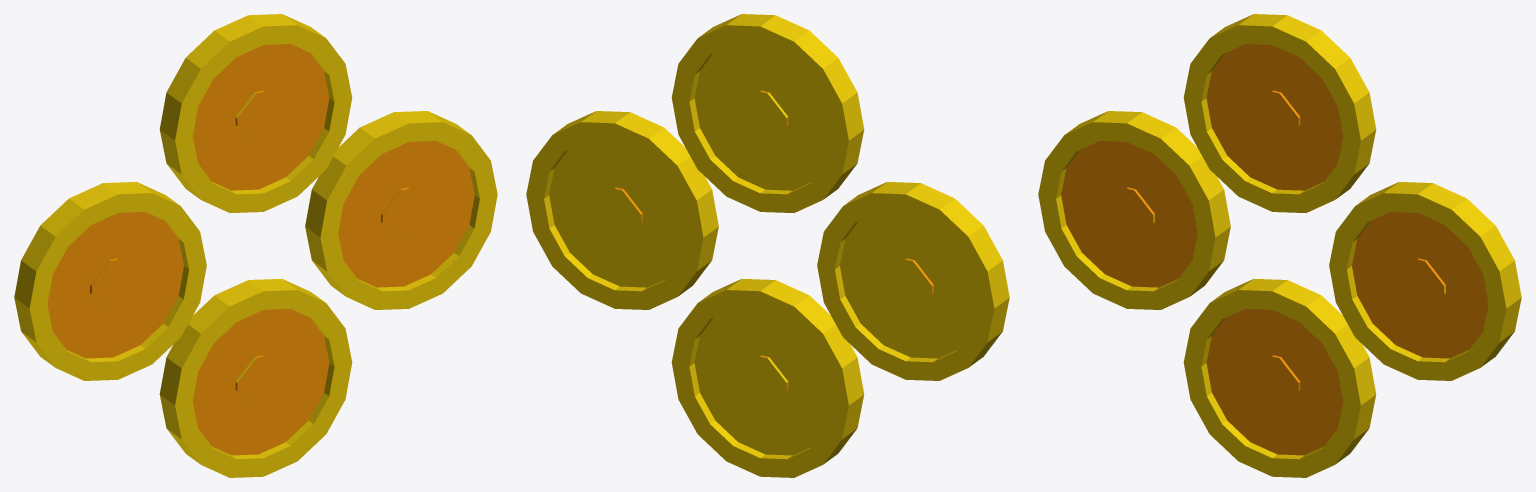
3 views of the same model, side by side, from view 1: azimuth 30°, elevation 25°; view 2: azimuth 150°, elevation 25°; view 3: azimuth 330°, elevation 25° (orthographic).
Parts seen in each view (by area): view 1: Coin_1, Coin_2, Coin_3, Coin_4; view 2: Coin_1, Coin_2, Coin_3, Coin_4; view 3: Coin_3, Coin_2, Coin_1, Coin_4.
Boxes of the visible parts, bbox=[...] form: Coin_1: bbox=[14, 182, 206, 380]; Coin_2: bbox=[159, 14, 352, 212]; Coin_3: bbox=[305, 111, 497, 309]; Coin_4: bbox=[159, 279, 352, 477]; Coin_1: bbox=[817, 182, 1009, 380]; Coin_2: bbox=[671, 14, 864, 212]; Coin_3: bbox=[526, 111, 718, 309]; Coin_4: bbox=[671, 279, 864, 477]; Coin_3: bbox=[1329, 182, 1521, 380]; Coin_2: bbox=[1183, 14, 1376, 212]; Coin_1: bbox=[1038, 111, 1230, 309]; Coin_4: bbox=[1183, 279, 1376, 477].
Bounding box in the file's own units: 2.48 × 2.28 × 0.1408.
Materials: 1 (1 with a texture image).
